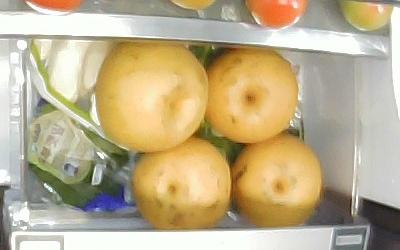pear: (95, 43, 208, 151), (132, 138, 231, 227), (227, 134, 322, 226), (208, 48, 300, 142)
